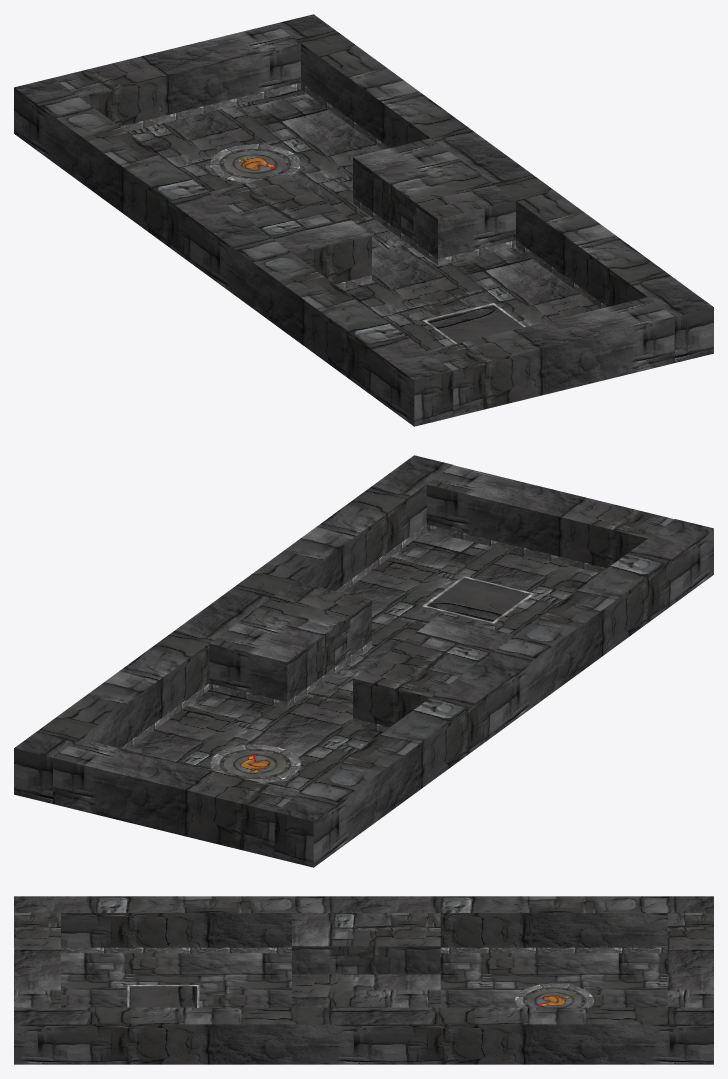
File: TempleEnvi.fbx
The picture shows the model from 3 angles, top to bottom: view 1: azimuth 30°, elevation 25°; view 2: azimuth 150°, elevation 25°; view 3: azimuth 270°, elevation 25°; orthographic projection. The views are drawn at different scales.
Visible parts, largest first — view 1: TempleEnvi; view 2: TempleEnvi; view 3: TempleEnvi.
Boxes of the visible parts, x1,y1,x2,y2 form: TempleEnvi: (14,14,713,426); TempleEnvi: (14,455,713,867); TempleEnvi: (14,896,713,1064).
Size of the model in its own units: 27 by 3.99 by 62.44.
